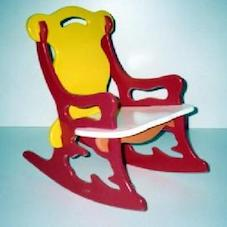chair: (14, 3, 221, 215), (14, 3, 159, 141)
